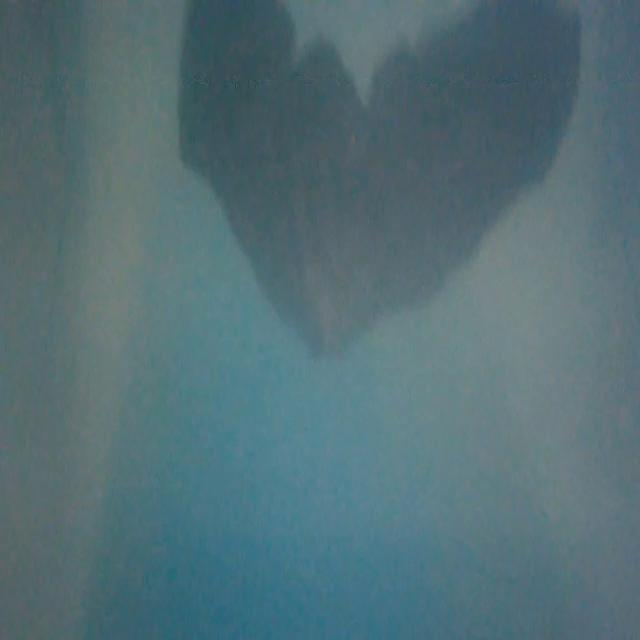plastic bags: (165, 0, 604, 360)
